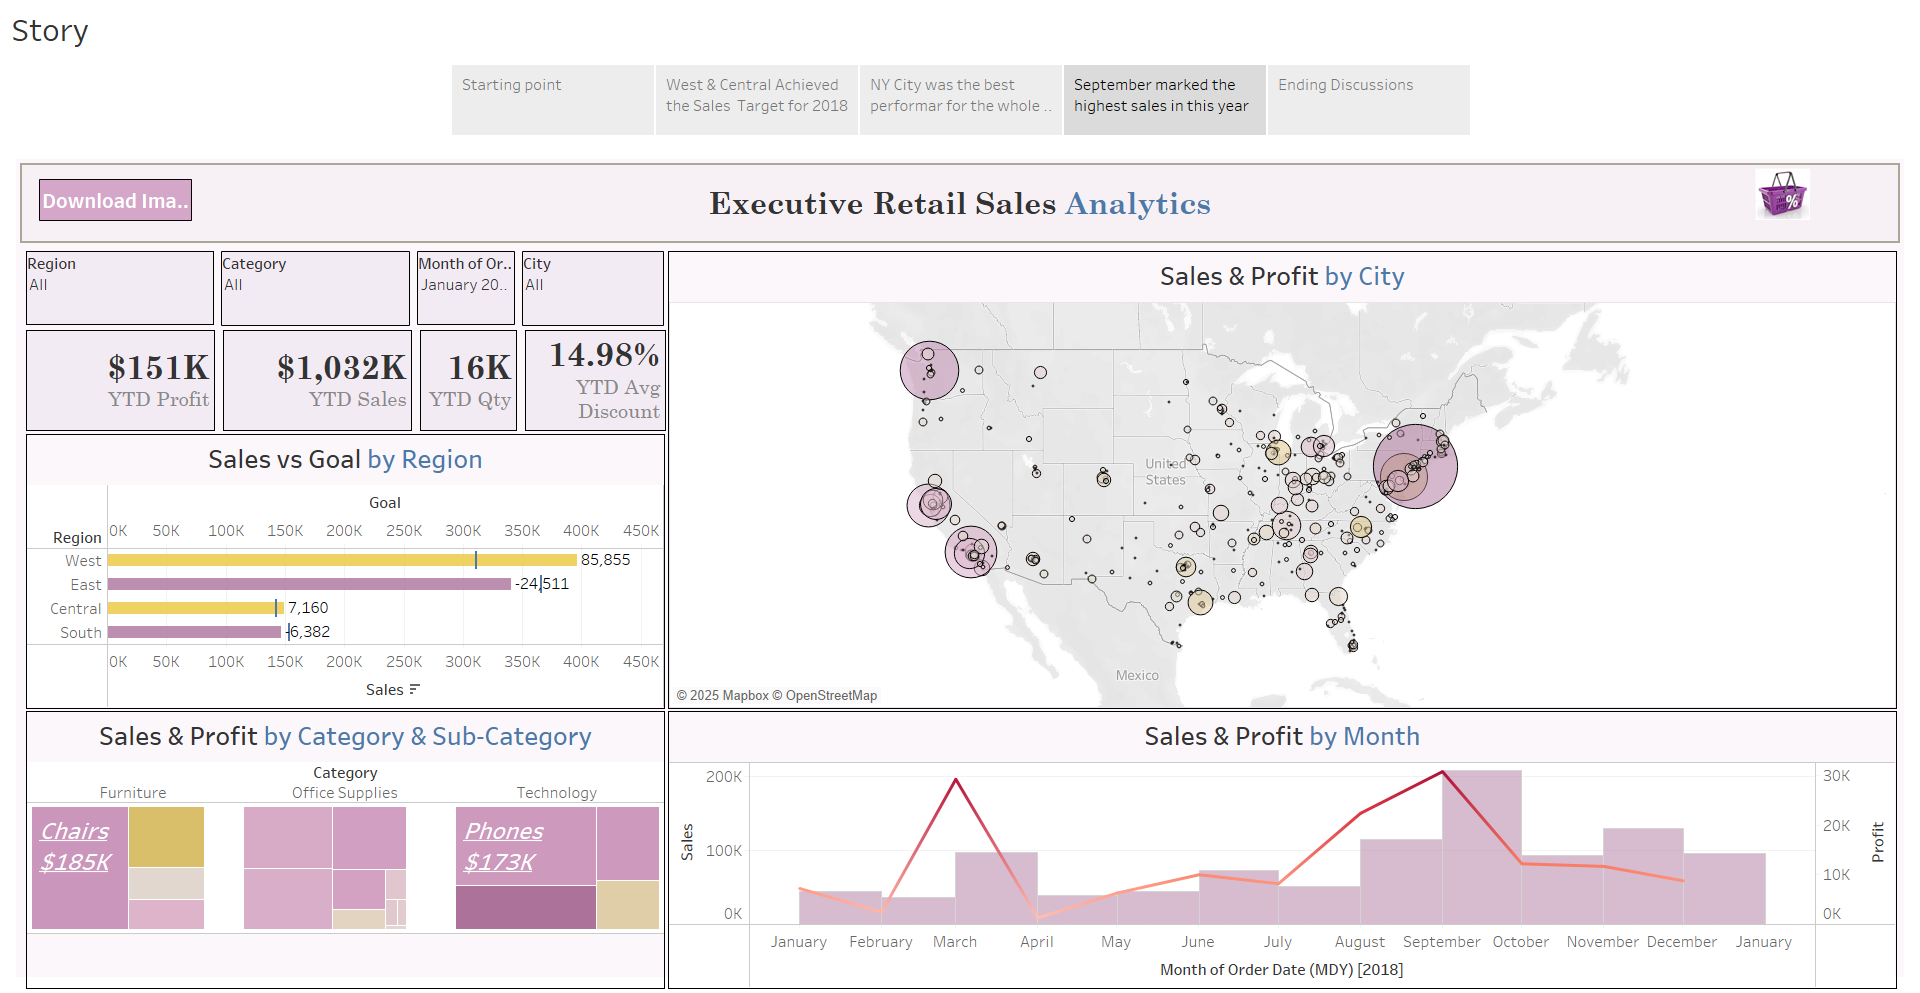

Layout of this report page (visuals, bound fields, positions):
{"tool":"tableau","page":{"name":"Dashboard 1","canvas":[1000,1000],"units":"permille","ordinal":0},"visuals":[{"type":"title","box":[4.8,10,990.3,109.9]},{"type":"image","param":"Image/STORE.jpg","box":[906.2,20,51.4,62.4]},{"type":"dashboard-object","box":[16.3,33.7,80.3,49.9]},{"type":"filter","title":"Sheet 2","param":"[federated.0otv4zu1pa6xi91826qd8018jcip].[none:Region:nk]","box":[9.5,119.9,98.5,88.6]},{"type":"filter","title":"Sheet 3","param":"[federated.0otv4zu1pa6xi91826qd8018jcip].[none:Category:nk]","box":[111.8,119.9,99.6,89.9]},{"type":"filter","title":"Sheet 4","param":"[federated.0otv4zu1pa6xi91826qd8018jcip].[tmn:Order Date (MDY):qk]","box":[215,119.9,51.4,88.6]},{"type":"filter","title":"Sheet 5","param":"[federated.0otv4zu1pa6xi91826qd8018jcip].[none:City:nk]","box":[270.1,119.9,74.2,89.9]},{"type":"worksheet","title":"Sheet 5","mark":"Automatic","box":[346.4,119.9,645.7,549.3]},{"type":"worksheet","title":"Sheet 6 (2)","mark":"Automatic","box":[7.2,209.7,93.5,131.1]},{"type":"worksheet","title":"Sheet 6","mark":"Automatic","box":[100.8,209.7,93.5,131.1]},{"type":"worksheet","title":"Sheet 6 (3)","mark":"Automatic","box":[194.3,209.7,63.4,131.1]},{"type":"worksheet","title":"Sheet 6 (4)","mark":"Automatic","box":[257.7,209.7,89.9,131.1]},{"type":"worksheet","title":"Sheet 2","mark":"Automatic","rows":["Region"],"cols":["Sales","Goal"],"box":[9.7,339.6,335.6,329.6]},{"type":"worksheet","title":"Sheet 3","mark":"Automatic","cols":["Category"],"box":[9.7,671.7,335.6,333.3]},{"type":"worksheet","title":"Sheet 4","mark":"Automatic","rows":["Sales","Profit"],"cols":["Order Date (MDY)"],"box":[346.4,671.7,645.8,333.3]}]}

Visuals, with their boxes on the dashboard's canvas, which has no fixed pixel size, in thousandths of its width and height (x1, y1, x2, y2). These are canvas units, not pixel positions in the 1920x993 screenshot, which may show the page scaled, cropped or inside an application window:
title: 5/10/995/120
image: 906/20/958/82
dashboard-object: 16/34/97/84
"Sheet 2" filter: 10/120/108/208
"Sheet 3" filter: 112/120/211/210
"Sheet 4" filter: 215/120/266/208
"Sheet 5" filter: 270/120/344/210
"Sheet 5" worksheet: 346/120/992/669
"Sheet 6 (2)" worksheet: 7/210/101/341
"Sheet 6" worksheet: 101/210/194/341
"Sheet 6 (3)" worksheet: 194/210/258/341
"Sheet 6 (4)" worksheet: 258/210/348/341
"Sheet 2" worksheet: 10/340/345/669
"Sheet 3" worksheet: 10/672/345/1005
"Sheet 4" worksheet: 346/672/992/1005
